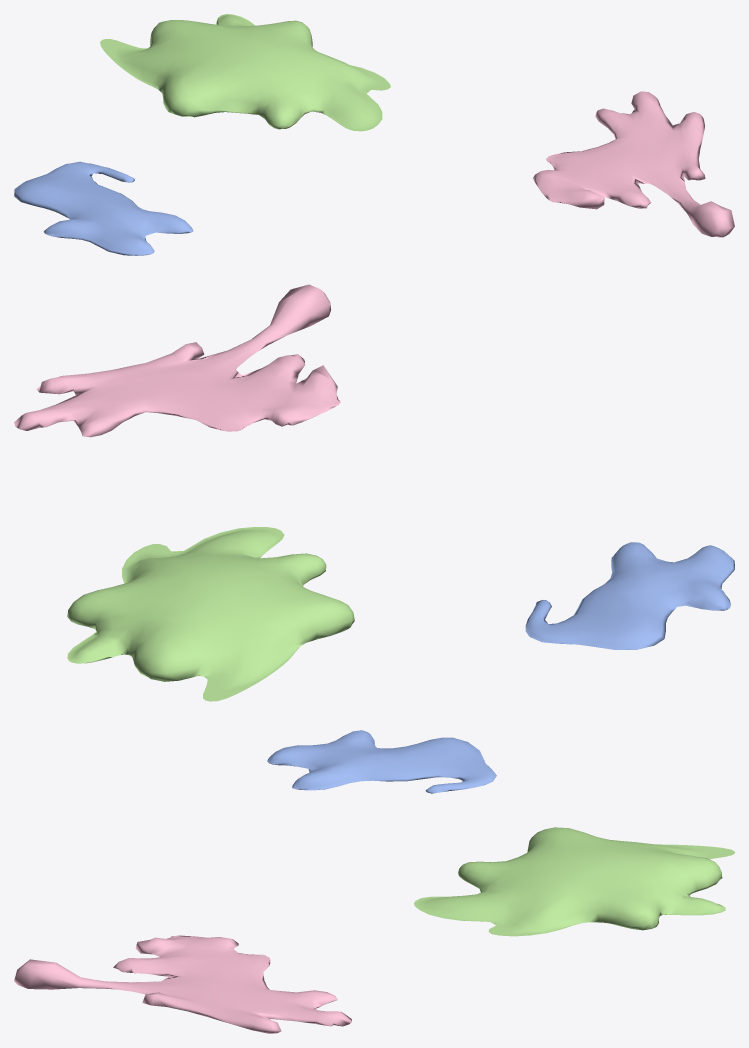
3 renders of one model, top to bottom at view 1: azimuth 30°, elevation 25°; view 2: azimuth 150°, elevation 25°; view 3: azimuth 270°, elevation 25°, orthographic. The views are drawn at different scales.
Visible parts, largest first — view 1: PM3D_Sphere3D_1, PM3D_Sphere3D_2, PM3D_Sphere3D_3; view 2: PM3D_Sphere3D_1, PM3D_Sphere3D_2, PM3D_Sphere3D_3; view 3: PM3D_Sphere3D_1, PM3D_Sphere3D_2, PM3D_Sphere3D_3.
Part boxes in pixels (x1,y1,x2,y2): PM3D_Sphere3D_1: [100, 14, 390, 131]; PM3D_Sphere3D_2: [533, 91, 734, 237]; PM3D_Sphere3D_3: [14, 161, 193, 255]; PM3D_Sphere3D_1: [67, 527, 354, 701]; PM3D_Sphere3D_2: [14, 284, 340, 437]; PM3D_Sphere3D_3: [525, 542, 734, 649]; PM3D_Sphere3D_1: [414, 827, 734, 936]; PM3D_Sphere3D_2: [14, 935, 351, 1033]; PM3D_Sphere3D_3: [267, 730, 496, 793].
Size of the model in its own units: 0.0205 by 0.000869 by 0.0208.
